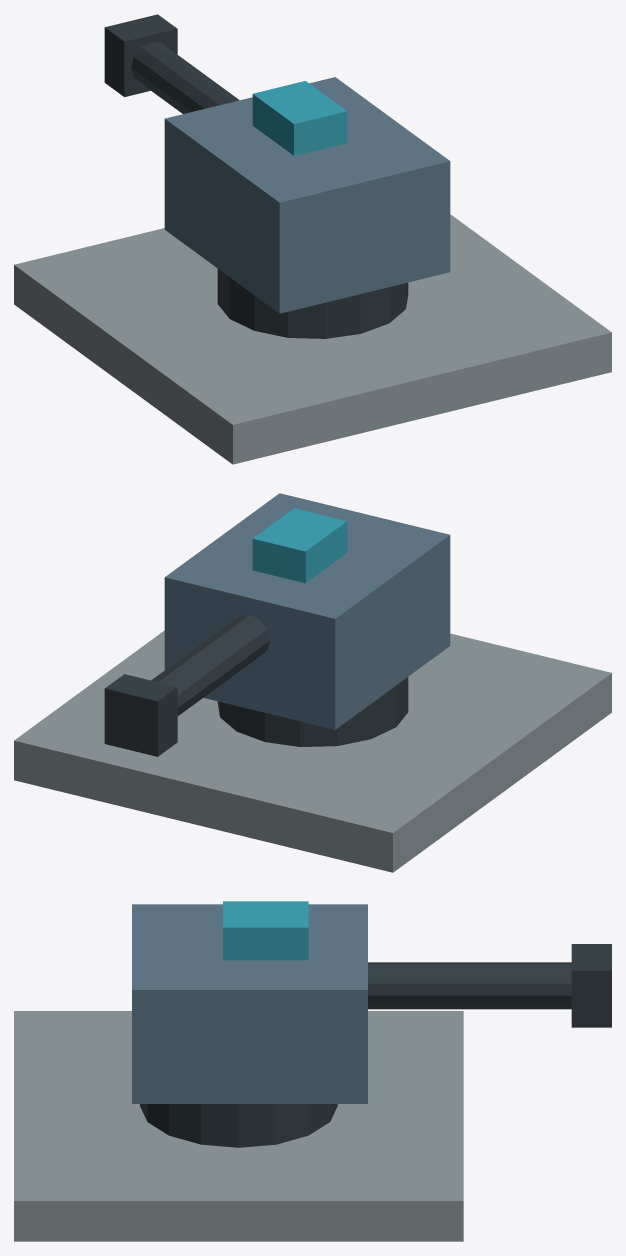
The model's file is MOD_Autocannon.glb.
The picture shows the model from 3 angles, top to bottom: view 1: azimuth 30°, elevation 25°; view 2: azimuth 150°, elevation 25°; view 3: azimuth 270°, elevation 25°; orthographic projection. The views are drawn at different scales.
Visible parts, largest first — view 1: GunDeckPlate, TurretBody, GunPedestal, Optic, GunBarrel, MuzzleBrake; view 2: GunDeckPlate, TurretBody, GunPedestal, Optic, MuzzleBrake, GunBarrel; view 3: GunDeckPlate, TurretBody, GunBarrel, GunPedestal, Optic, MuzzleBrake.
Part boxes in pixels (x1,y1,x2,y2): GunDeckPlate: [14, 214, 611, 464]; TurretBody: [164, 77, 450, 313]; GunPedestal: [217, 269, 408, 338]; Optic: [252, 81, 347, 155]; GunBarrel: [131, 42, 239, 113]; MuzzleBrake: [104, 14, 177, 97]; GunDeckPlate: [14, 630, 611, 872]; TurretBody: [164, 493, 450, 729]; GunPedestal: [217, 677, 408, 746]; Optic: [252, 508, 347, 583]; MuzzleBrake: [104, 674, 177, 756]; GunBarrel: [151, 615, 269, 715]; GunDeckPlate: [14, 1011, 463, 1241]; TurretBody: [132, 904, 367, 1103]; GunBarrel: [368, 962, 571, 1009]; GunPedestal: [140, 1104, 337, 1147]; Optic: [223, 901, 308, 960]; MuzzleBrake: [571, 944, 611, 1027].
Size of the model in its own units: 2 by 1.14 by 2.66.
